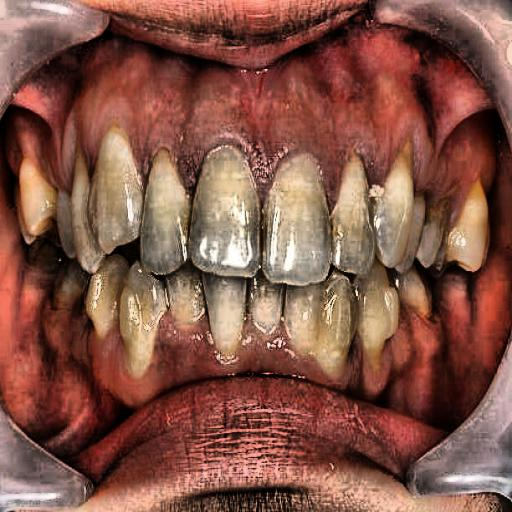Gingivitis: (39, 46, 439, 193)
